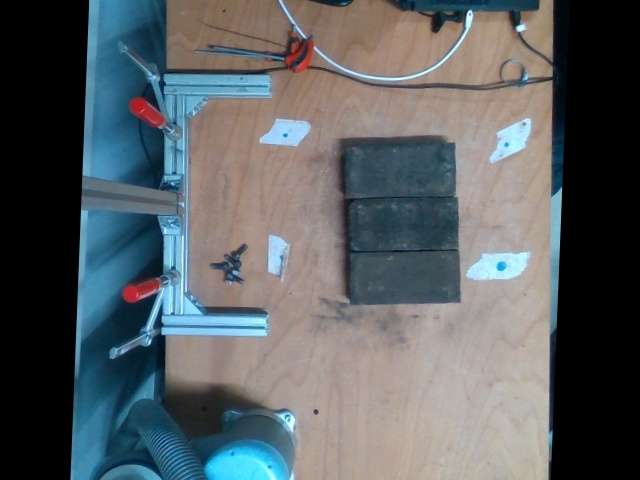brick: (347, 195, 459, 252), (345, 142, 457, 197), (350, 250, 461, 304)
